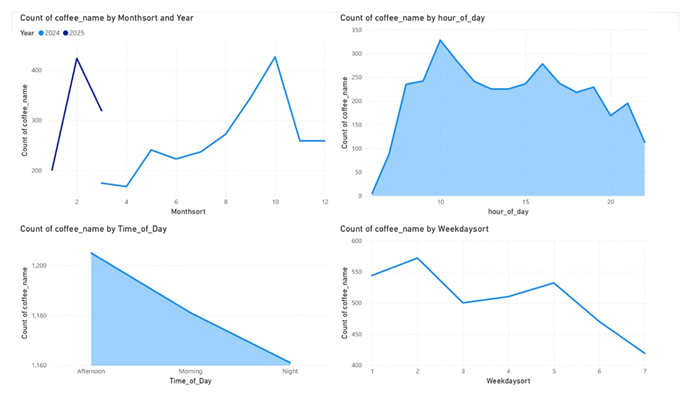

This screenshot's page, from the dashboard's own definition file:
{"tool":"powerbi","page":{"name":"Page 1","canvas":[1280,720],"ordinal":0},"visuals":[{"type":"lineChart","fields":{"Category":["Coffe_sales.Monthsort"],"Y":["CountNonNull(Coffe_sales.coffee_name)"],"Series":["Coffe_sales.Year"]},"box":[10.1,0,604.7,394.8],"z":0},{"type":"areaChart","fields":{"Y":["CountNonNull(Coffe_sales.coffee_name)"],"Category":["Coffe_sales.Time_of_Day"]},"box":[10,405,605,315],"z":1000},{"type":"stackedAreaChart","fields":{"Category":["Coffe_sales.hour_of_day"],"Y":["CountNonNull(Coffe_sales.coffee_name)"]},"box":[625,0,605,395],"z":2000},{"type":"lineChart","fields":{"Category":["Coffe_sales.Weekdaysort"],"Y":["CountNonNull(Coffe_sales.coffee_name)"]},"box":[625,405,605,315],"z":3000}]}

Visuals, with their boxes in screenshot pixels (x1, y1, x2, y2), scaled from the page's 1280x720 canvas onto the 691x400 screenshot:
lineChart - Coffe_sales.Monthsort x CountNonNull(Coffe_sales.coffee_name): x1=5, y1=0, x2=332, y2=219
areaChart - CountNonNull(Coffe_sales.coffee_name) x Coffe_sales.Time_of_Day: x1=5, y1=225, x2=332, y2=399
stackedAreaChart - Coffe_sales.hour_of_day x CountNonNull(Coffe_sales.coffee_name): x1=337, y1=0, x2=664, y2=219
lineChart - Coffe_sales.Weekdaysort x CountNonNull(Coffe_sales.coffee_name): x1=337, y1=225, x2=664, y2=399
